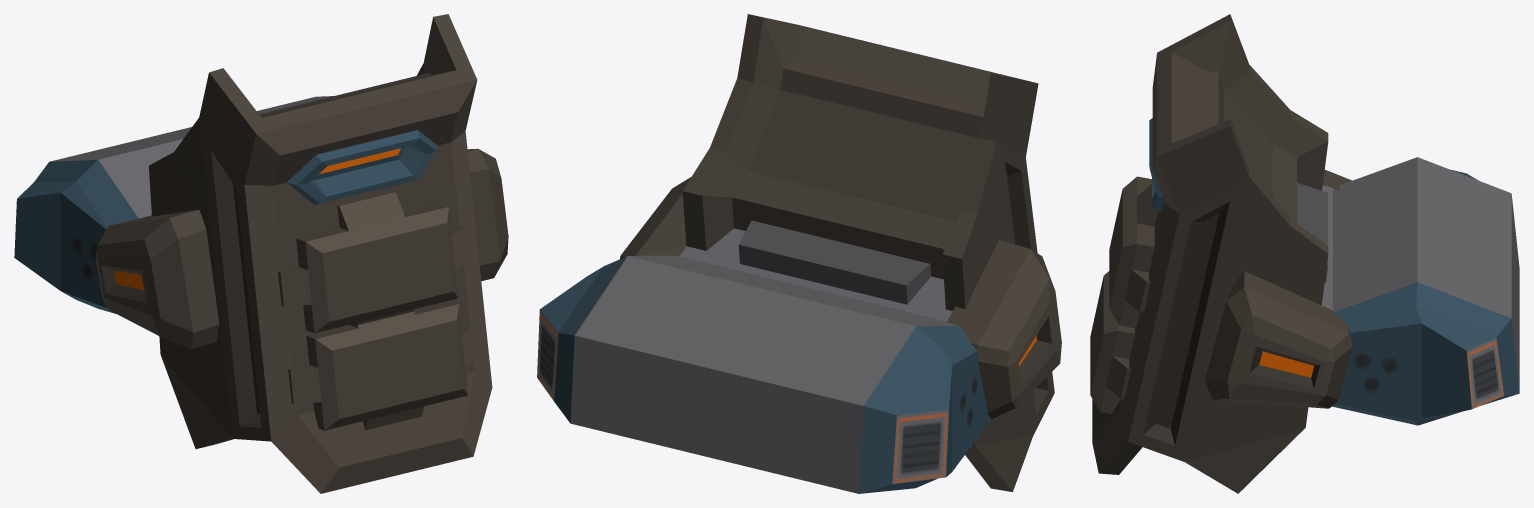
Rendered from SM_Mech_Leg_01_Armor_Kneepad_03.fbx.
3 renders of one model, left to right at view 1: azimuth 30°, elevation 25°; view 2: azimuth 150°, elevation 25°; view 3: azimuth 270°, elevation 25°, orthographic. The views are drawn at different scales.
Visible parts, largest first — view 1: SM_Mech_Leg_01_Armor_Kneepad_03; view 2: SM_Mech_Leg_01_Armor_Kneepad_03; view 3: SM_Mech_Leg_01_Armor_Kneepad_03.
Part boxes in pixels (x1,y1,x2,y2): SM_Mech_Leg_01_Armor_Kneepad_03: (14,14,508,493); SM_Mech_Leg_01_Armor_Kneepad_03: (537,14,1061,493); SM_Mech_Leg_01_Armor_Kneepad_03: (1090,14,1519,493).
Size of the model in its own units: 60.68 by 59.78 by 62.07.
